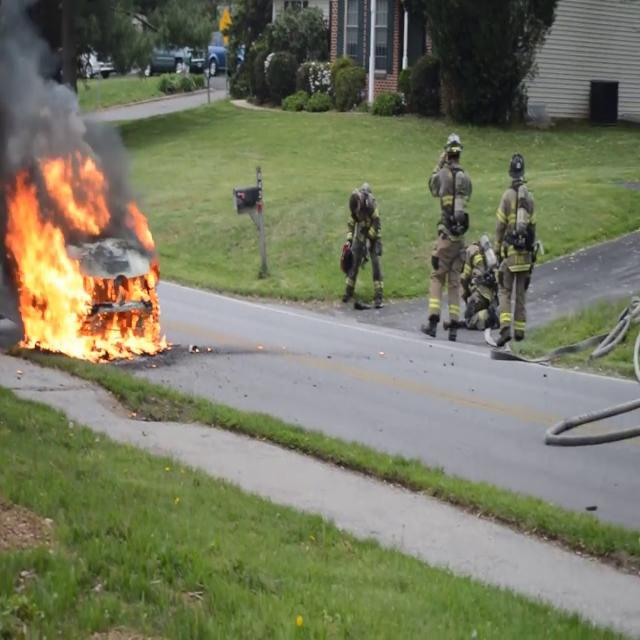Fire: (2, 152, 168, 364)
Smoke: (0, 1, 77, 208)
